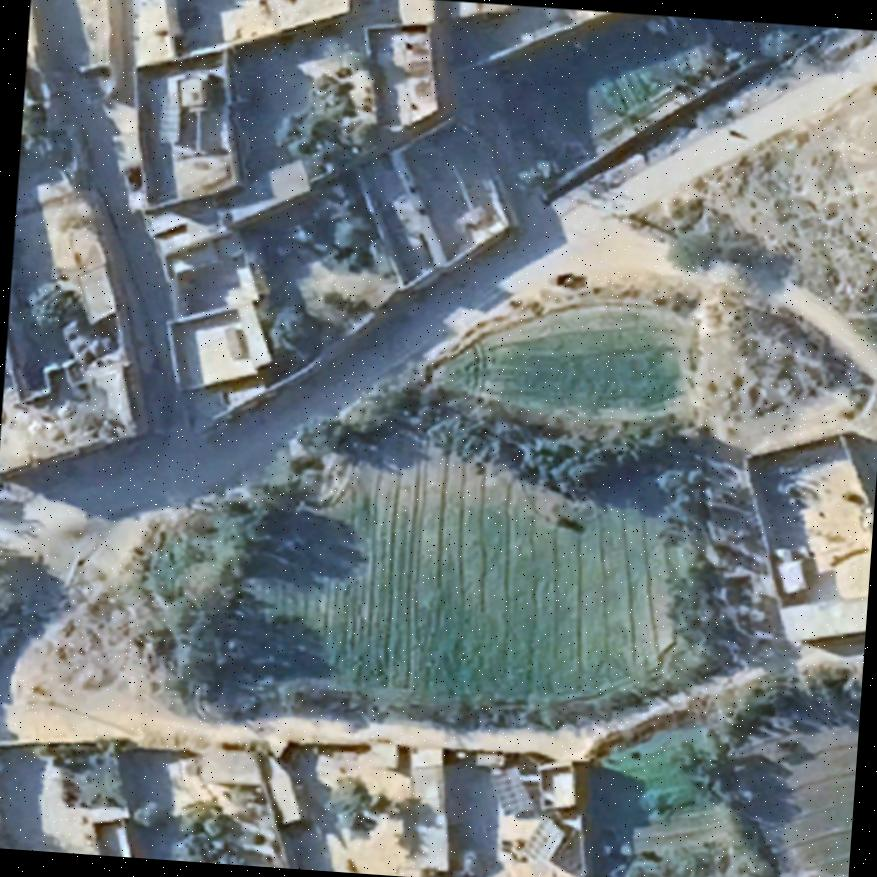Solarpanel: (485, 763, 537, 820), (516, 811, 566, 868), (154, 90, 184, 142), (222, 321, 246, 360)
